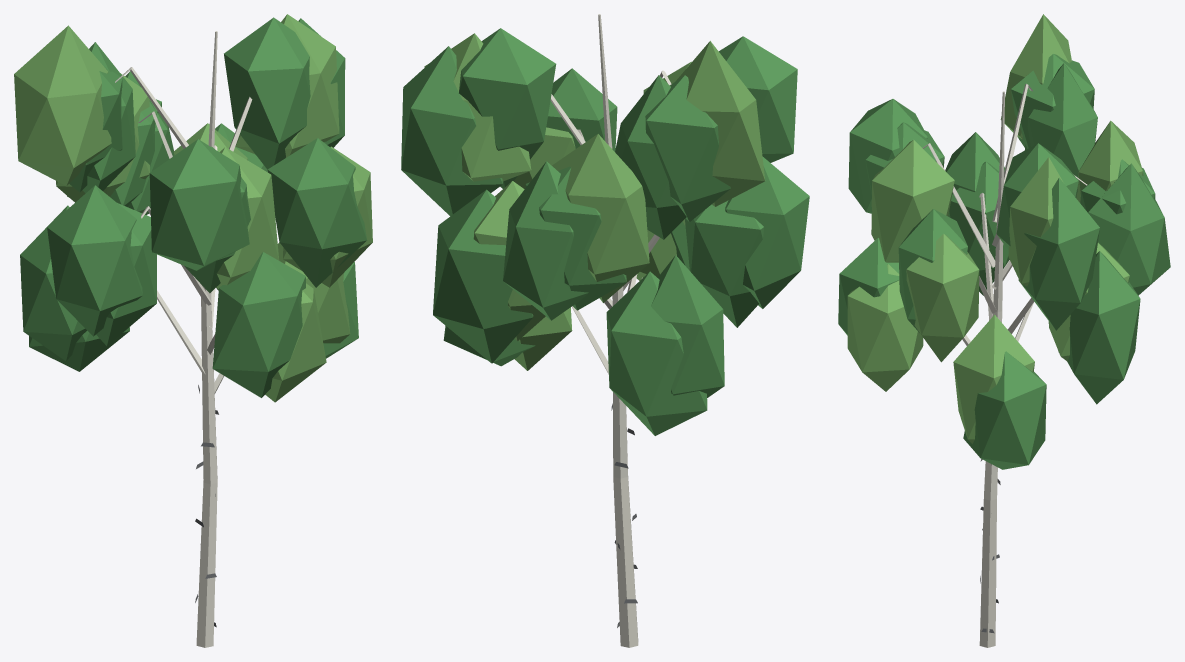
File: birch_01.glb
The picture shows the model from 3 angles, left to right: view 1: azimuth 30°, elevation 25°; view 2: azimuth 150°, elevation 25°; view 3: azimuth 270°, elevation 25°; orthographic projection. The views are drawn at different scales.
Visible parts, largest first — view 1: Birch_800_01; view 2: Birch_800_01; view 3: Birch_800_01.
Part boxes in pixels (x1,y1,x2,y2): Birch_800_01: [14, 14, 372, 647]; Birch_800_01: [401, 14, 809, 647]; Birch_800_01: [838, 14, 1170, 647].
Size of the model in its own units: 9.55 by 16.92 by 8.77.
